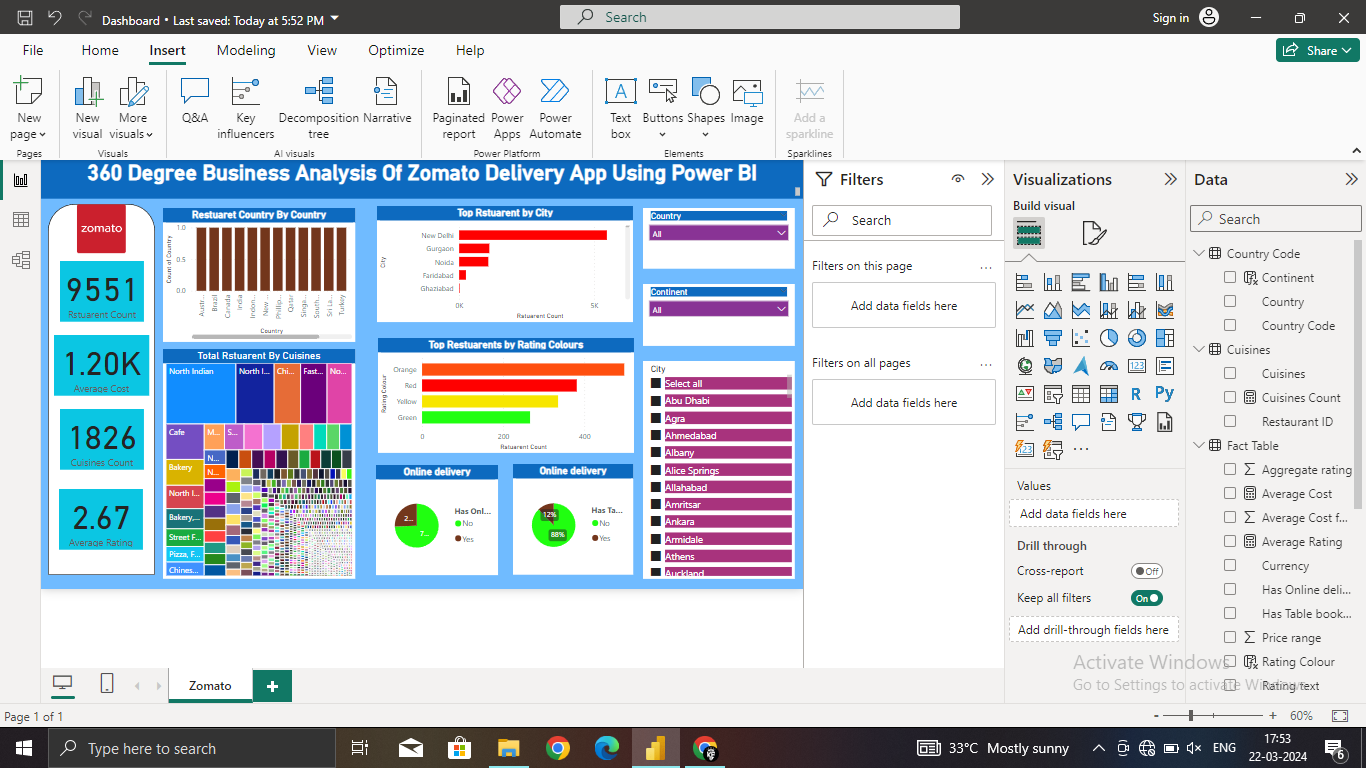

This screenshot's page, from the dashboard's own definition file:
{"tool":"powerbi","page":{"name":"Zomato","canvas":[1280,720],"ordinal":0},"visuals":[{"type":"textbox","title":"360 Degree Business Analysis Of Zomato Delivery App Using Power BI","box":[0,0,1280.2,64.8],"z":0},{"type":"slicer","fields":{"Values":["Country Code.Country"]},"box":[1011.2,80.6,255.3,102.5],"z":1000},{"type":"slicer","fields":{"Values":["Country Code.Continent"]},"box":[1011.2,208.3,255.3,104.1],"z":2000},{"type":"slicer","fields":{"Values":["Zomato Global.City"]},"box":[1011.2,337.6,255.3,366.2],"z":3000},{"type":"barChart","title":"Top Rstuarent by City","fields":{"Y":["Zomato Global.Rstuarent Count"],"Category":["Zomato Global.City"]},"box":[564.4,77.3,430,194.9],"z":4000},{"type":"barChart","title":"Top Restuarents by Rating Colours","fields":{"Category":["Fact Table.Rating Colour"],"Y":["Zomato Global.Rstuarent Count"]},"box":[566.1,299,430,193.2],"z":5000},{"type":"pieChart","title":"Online delivery","fields":{"Y":["Zomato Global.Rstuarent Count"],"Category":["Fact Table.Has Online delivery"]},"box":[562.7,512.3,204.9,184.8],"z":6000},{"type":"pieChart","title":"Online delivery","fields":{"Y":["Zomato Global.Rstuarent Count"],"Category":["Fact Table.Has Table booking"]},"box":[792.9,510.7,201.6,186.5],"z":7000},{"type":"treemap","title":"Total Rstuarent By Cuisines","fields":{"Values":["Zomato Global.Rstuarent Count"],"Group":["Zomato Global.Cuisines"]},"box":[204.9,317.5,322.5,386.4],"z":8000},{"type":"lineClusteredColumnComboChart","title":"Restuaret Country By Country","fields":{"Category":["Country Code.Country"],"Y":["Country Code.Country"]},"box":[204.9,80.6,322.5,225.1],"z":9000},{"type":"shape","box":[11.8,73.9,179.7,623.2],"z":10000},{"type":"card","fields":{"Values":["Zomato Global.Rstuarent Count"]},"box":[31.9,169.7,141.1,102.5],"z":11000},{"type":"card","fields":{"Values":["Fact Table.Average Count"]},"box":[21.8,294,159.6,102.5],"z":11001},{"type":"card","fields":{"Values":["Cuisines.Cuisines Count"]},"box":[31.9,418.3,141.1,102.5],"z":11002},{"type":"card","fields":{"Values":["Fact Table.Average Rating"]},"box":[30.2,552.7,141.1,102.5],"z":11003},{"type":"image","box":[55.4,65.5,92.4,99.1],"z":11004}]}

Visuals, with their boxes on the page's 1280x720 design canvas (x1, y1, x2, y2). These are canvas units, not pixel positions in the 1366x768 screenshot, which may show the page scaled, cropped or inside an application window:
"360 Degree Business Analysis Of Zomato Delivery App Using Power BI" textbox: detection(0, 0, 1280, 65)
slicer - Country Code.Country: detection(1011, 81, 1266, 183)
slicer - Country Code.Continent: detection(1011, 208, 1266, 312)
slicer - Zomato Global.City: detection(1011, 338, 1266, 704)
"Top Rstuarent by City" barChart: detection(564, 77, 994, 272)
"Top Restuarents by Rating Colours" barChart: detection(566, 299, 996, 492)
"Online delivery" pieChart: detection(563, 512, 768, 697)
"Online delivery" pieChart: detection(793, 511, 994, 697)
"Total Rstuarent By Cuisines" treemap: detection(205, 318, 527, 704)
"Restuaret Country By Country" lineClusteredColumnComboChart: detection(205, 81, 527, 306)
shape: detection(12, 74, 192, 697)
card - Zomato Global.Rstuarent Count: detection(32, 170, 173, 272)
card - Fact Table.Average Count: detection(22, 294, 181, 396)
card - Cuisines.Cuisines Count: detection(32, 418, 173, 521)
card - Fact Table.Average Rating: detection(30, 553, 171, 655)
image: detection(55, 66, 148, 165)
